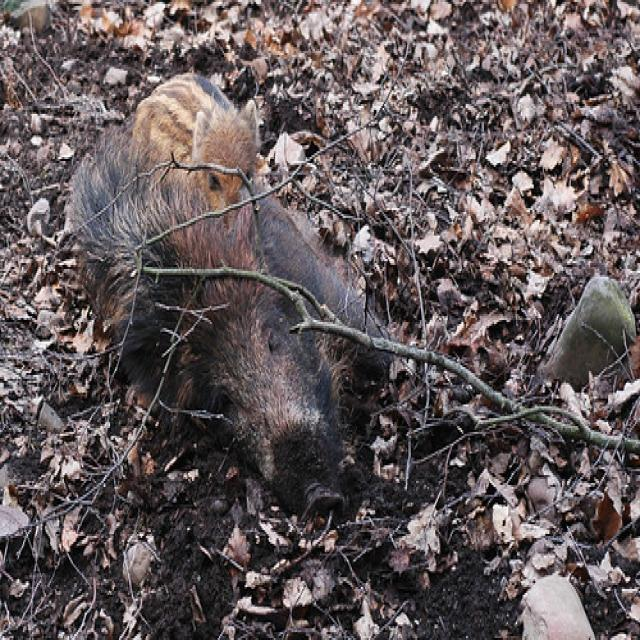boar: (33, 54, 421, 472)
